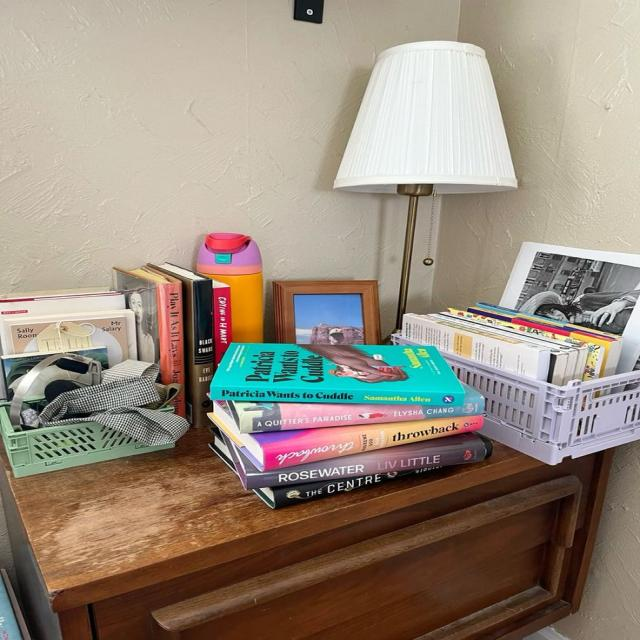book: (258, 414, 482, 471), (249, 441, 489, 490), (241, 398, 485, 433), (275, 466, 450, 509), (211, 387, 464, 407), (190, 280, 212, 424), (162, 285, 183, 384), (214, 288, 230, 354)
